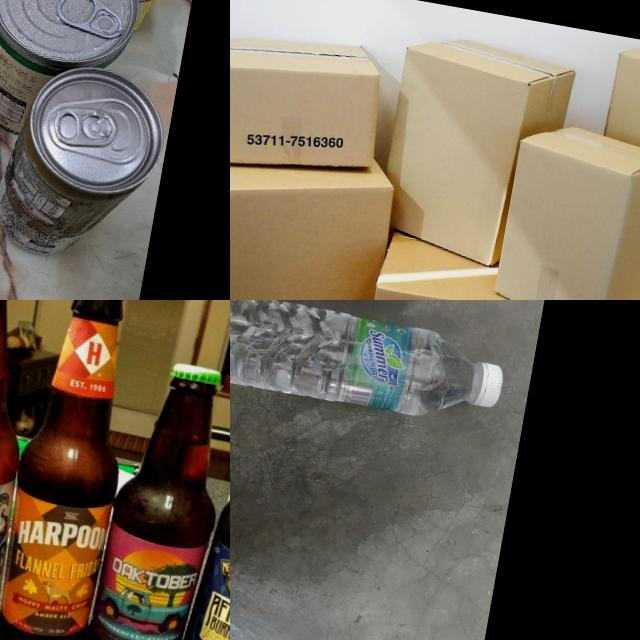aba de lata: (44, 98, 120, 153), (53, 0, 131, 43)
garrafa de vidro: (0, 300, 148, 640), (82, 355, 230, 640), (0, 300, 59, 640), (171, 304, 230, 640)
garrafa plástica: (230, 300, 489, 426)
lata: (0, 57, 171, 271), (0, 0, 150, 150)
papelão: (370, 24, 578, 276), (230, 96, 407, 300), (486, 114, 640, 300), (230, 17, 393, 189), (355, 227, 640, 300), (574, 34, 640, 300)
tampa plástica: (471, 358, 508, 412)
